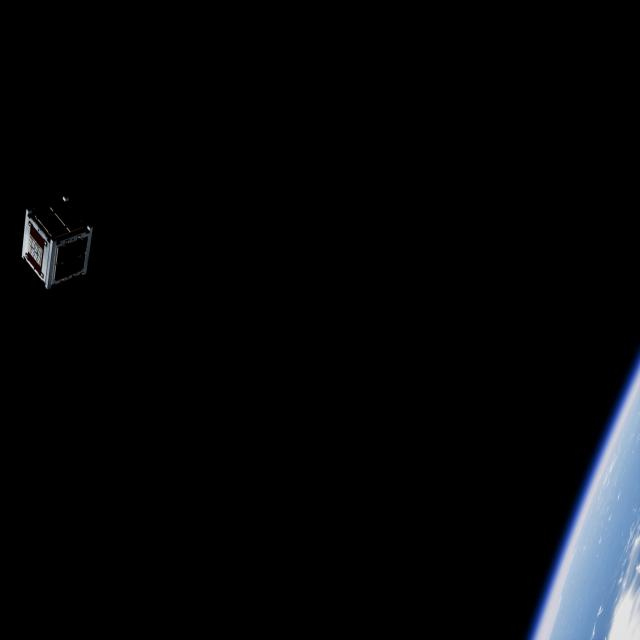medium_debris: (20, 194, 94, 290)
